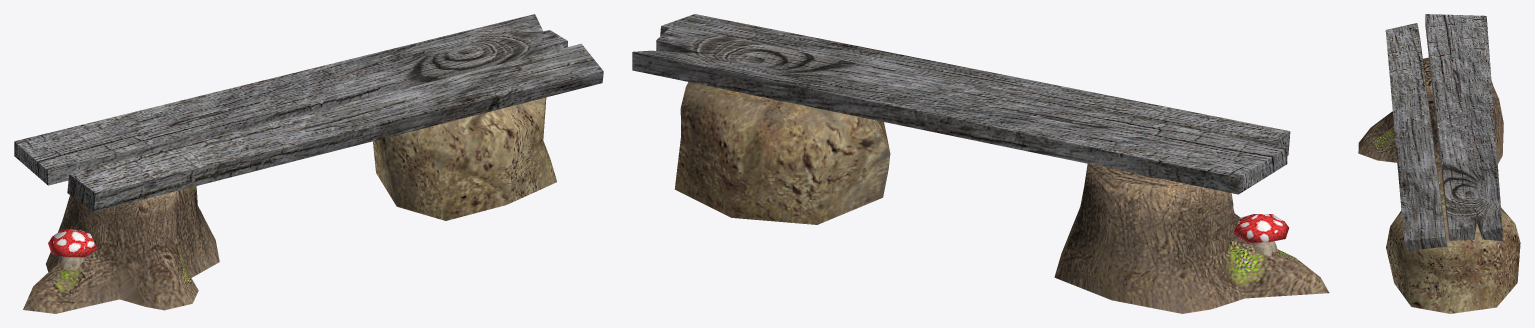
Rendered from forestBench_fbx.fbx.
3 views of the same model, side by side, from view 1: azimuth 30°, elevation 25°; view 2: azimuth 150°, elevation 25°; view 3: azimuth 270°, elevation 25° (orthographic). The views are drawn at different scales.
Visible parts, largest first — view 1: forestBench; view 2: forestBench; view 3: forestBench.
Part boxes in pixels (left/top/right/bottom): forestBench: left=14, top=14, right=603, bottom=313; forestBench: left=632, top=14, right=1329, bottom=313; forestBench: left=1358, top=14, right=1520, bottom=313.
Bounding box in the file's own units: 273 × 57.31 × 84.13.
